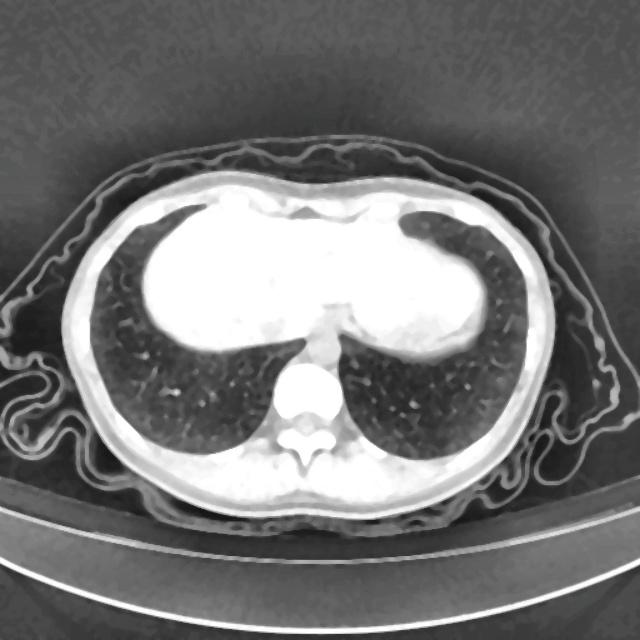covid: (60, 165, 558, 526)
